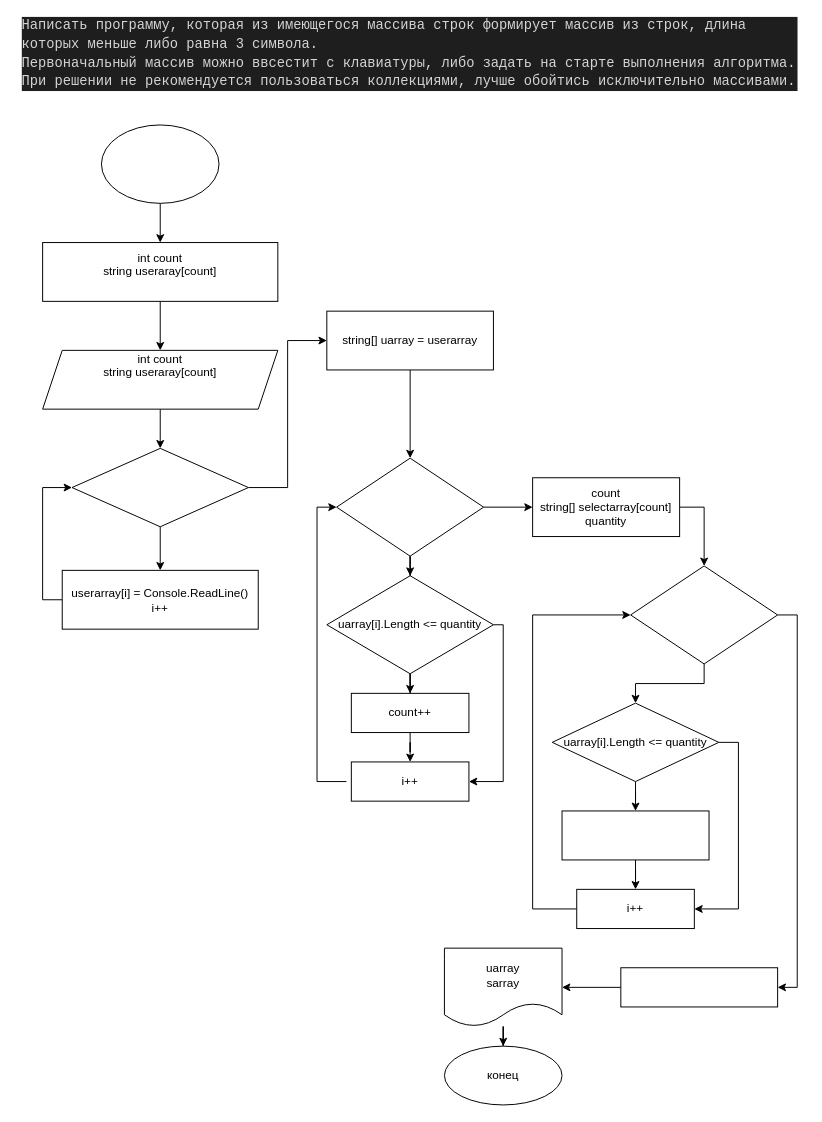
Some shapes in this 822 by 1122 pixel diagram are drawn without their labels. The shapes that lost their labels are listed below. From the top down, each one's centre as x and y in pixels, then its label:
(159,163): Начало
(159,487): int i = 0 i < count
(410,506): int i = 0 i < uarray.Length int quantity = 3 int count = 0
(704,614): int i = 0 i < uarray.Length int k = 0
(635,835): selectarray[k] = uarray[i] k++
(699,987): string[] sarray = selectarray
